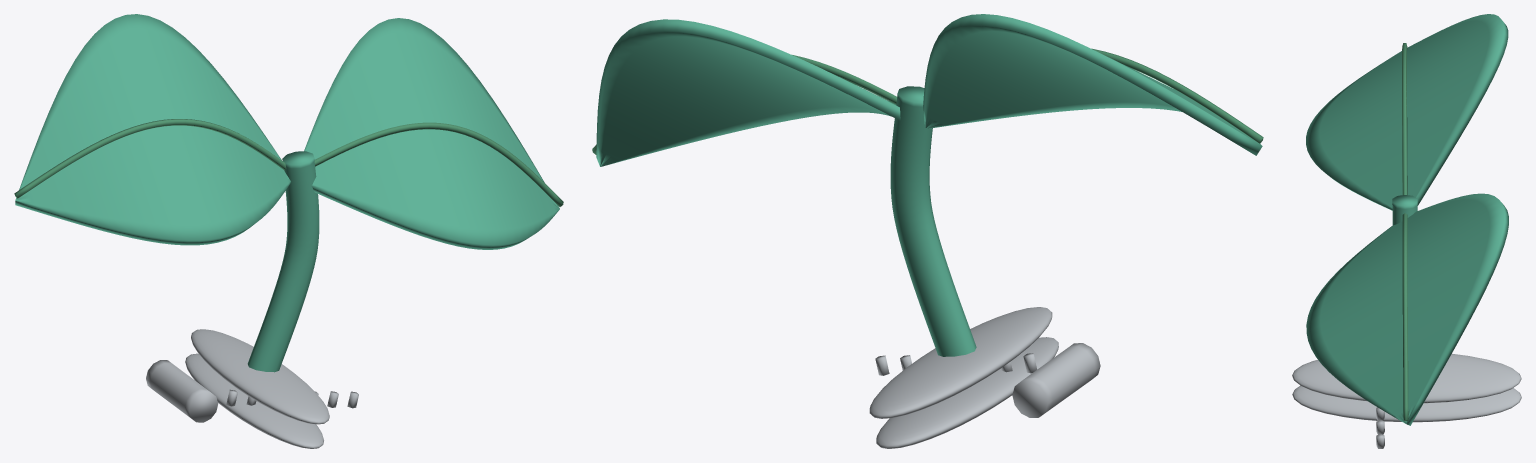
File: Feminine-twin-braids-cap251-sprout.glb
3 views of the same model, side by side, from view 1: azimuth 30°, elevation 25°; view 2: azimuth 150°, elevation 25°; view 3: azimuth 270°, elevation 25° (orthographic). The views are drawn at different scales.
Parts seen in each view (by area): view 1: 226 extra / Accessory / mint226, 226 extra / Sprout / clip silver235, 226 extra / Sprout / leaf vein235; view 2: 226 extra / Accessory / mint226, 226 extra / Sprout / clip silver235, 226 extra / Sprout / leaf vein235; view 3: 226 extra / Accessory / mint226, 226 extra / Sprout / clip silver235, 226 extra / Sprout / leaf vein235.
Boxes of the visible parts, x1,y1,x2,y2 form: 226 extra / Accessory / mint226: (15,14,559,372); 226 extra / Sprout / clip silver235: (146,329,358,448); 226 extra / Sprout / leaf vein235: (14,119,563,206); 226 extra / Accessory / mint226: (596,14,1262,356); 226 extra / Sprout / clip silver235: (869,307,1100,448); 226 extra / Sprout / leaf vein235: (592,48,1263,154); 226 extra / Accessory / mint226: (1306,14,1508,425); 226 extra / Sprout / clip silver235: (1292,353,1521,448); 226 extra / Sprout / leaf vein235: (1402,43,1408,421).
Bounding box in the file's own units: 0.2637 × 0.1756 × 0.104.
